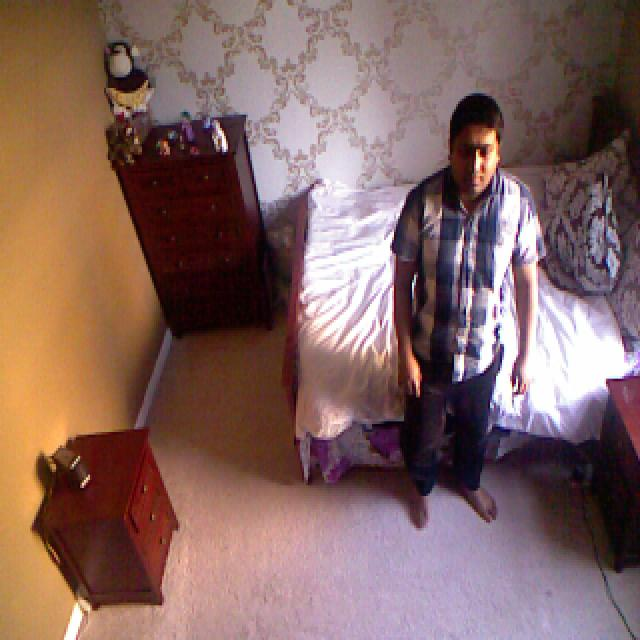standing: (394, 94, 536, 528)
